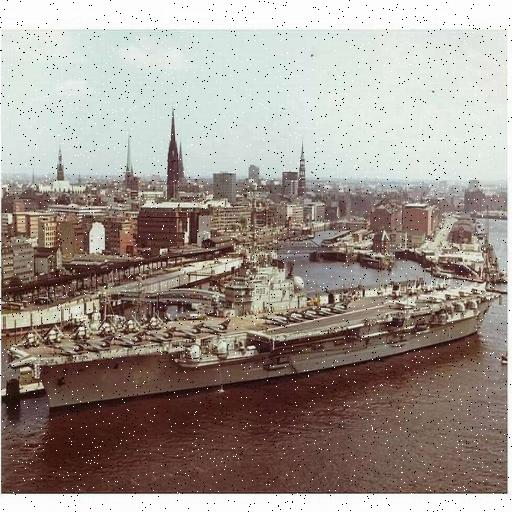Portanaves: (5, 211, 504, 426)
